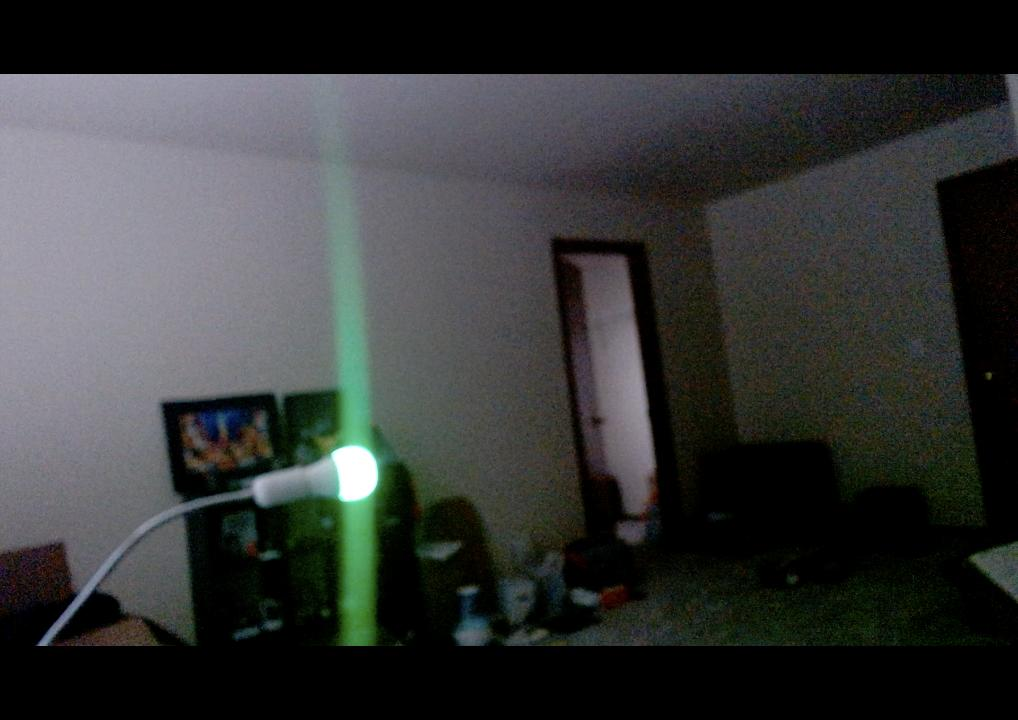TubeLight: (307, 444, 379, 501)
